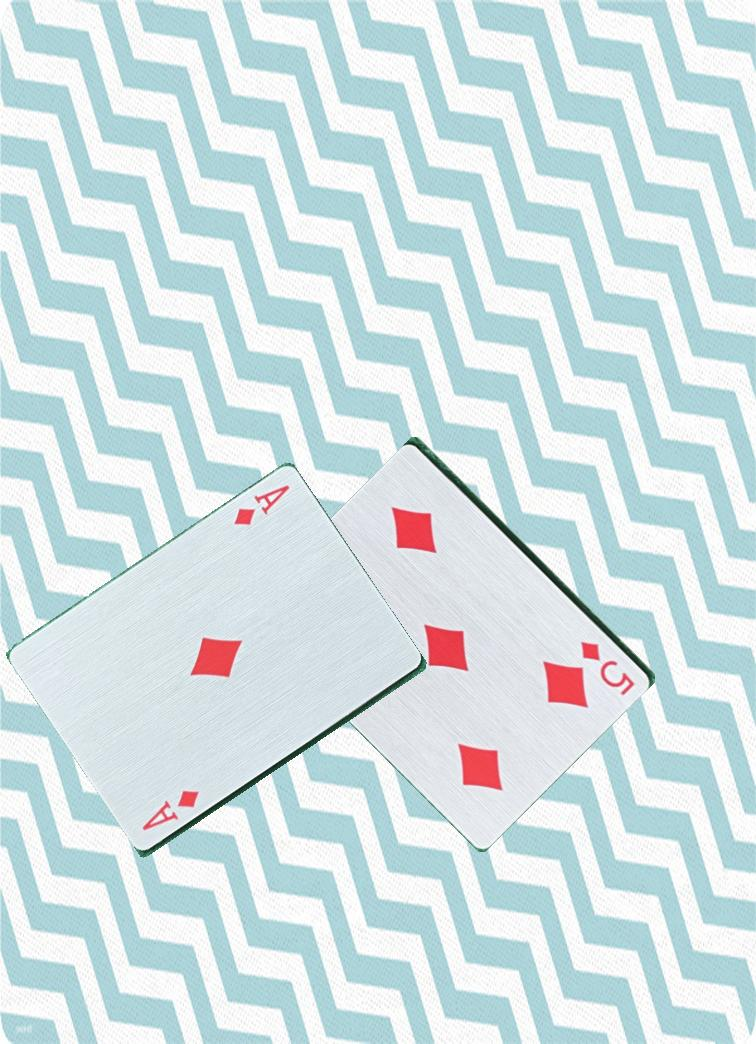5d: (577, 637, 639, 697)
ad: (132, 785, 215, 836), (230, 480, 293, 528)
